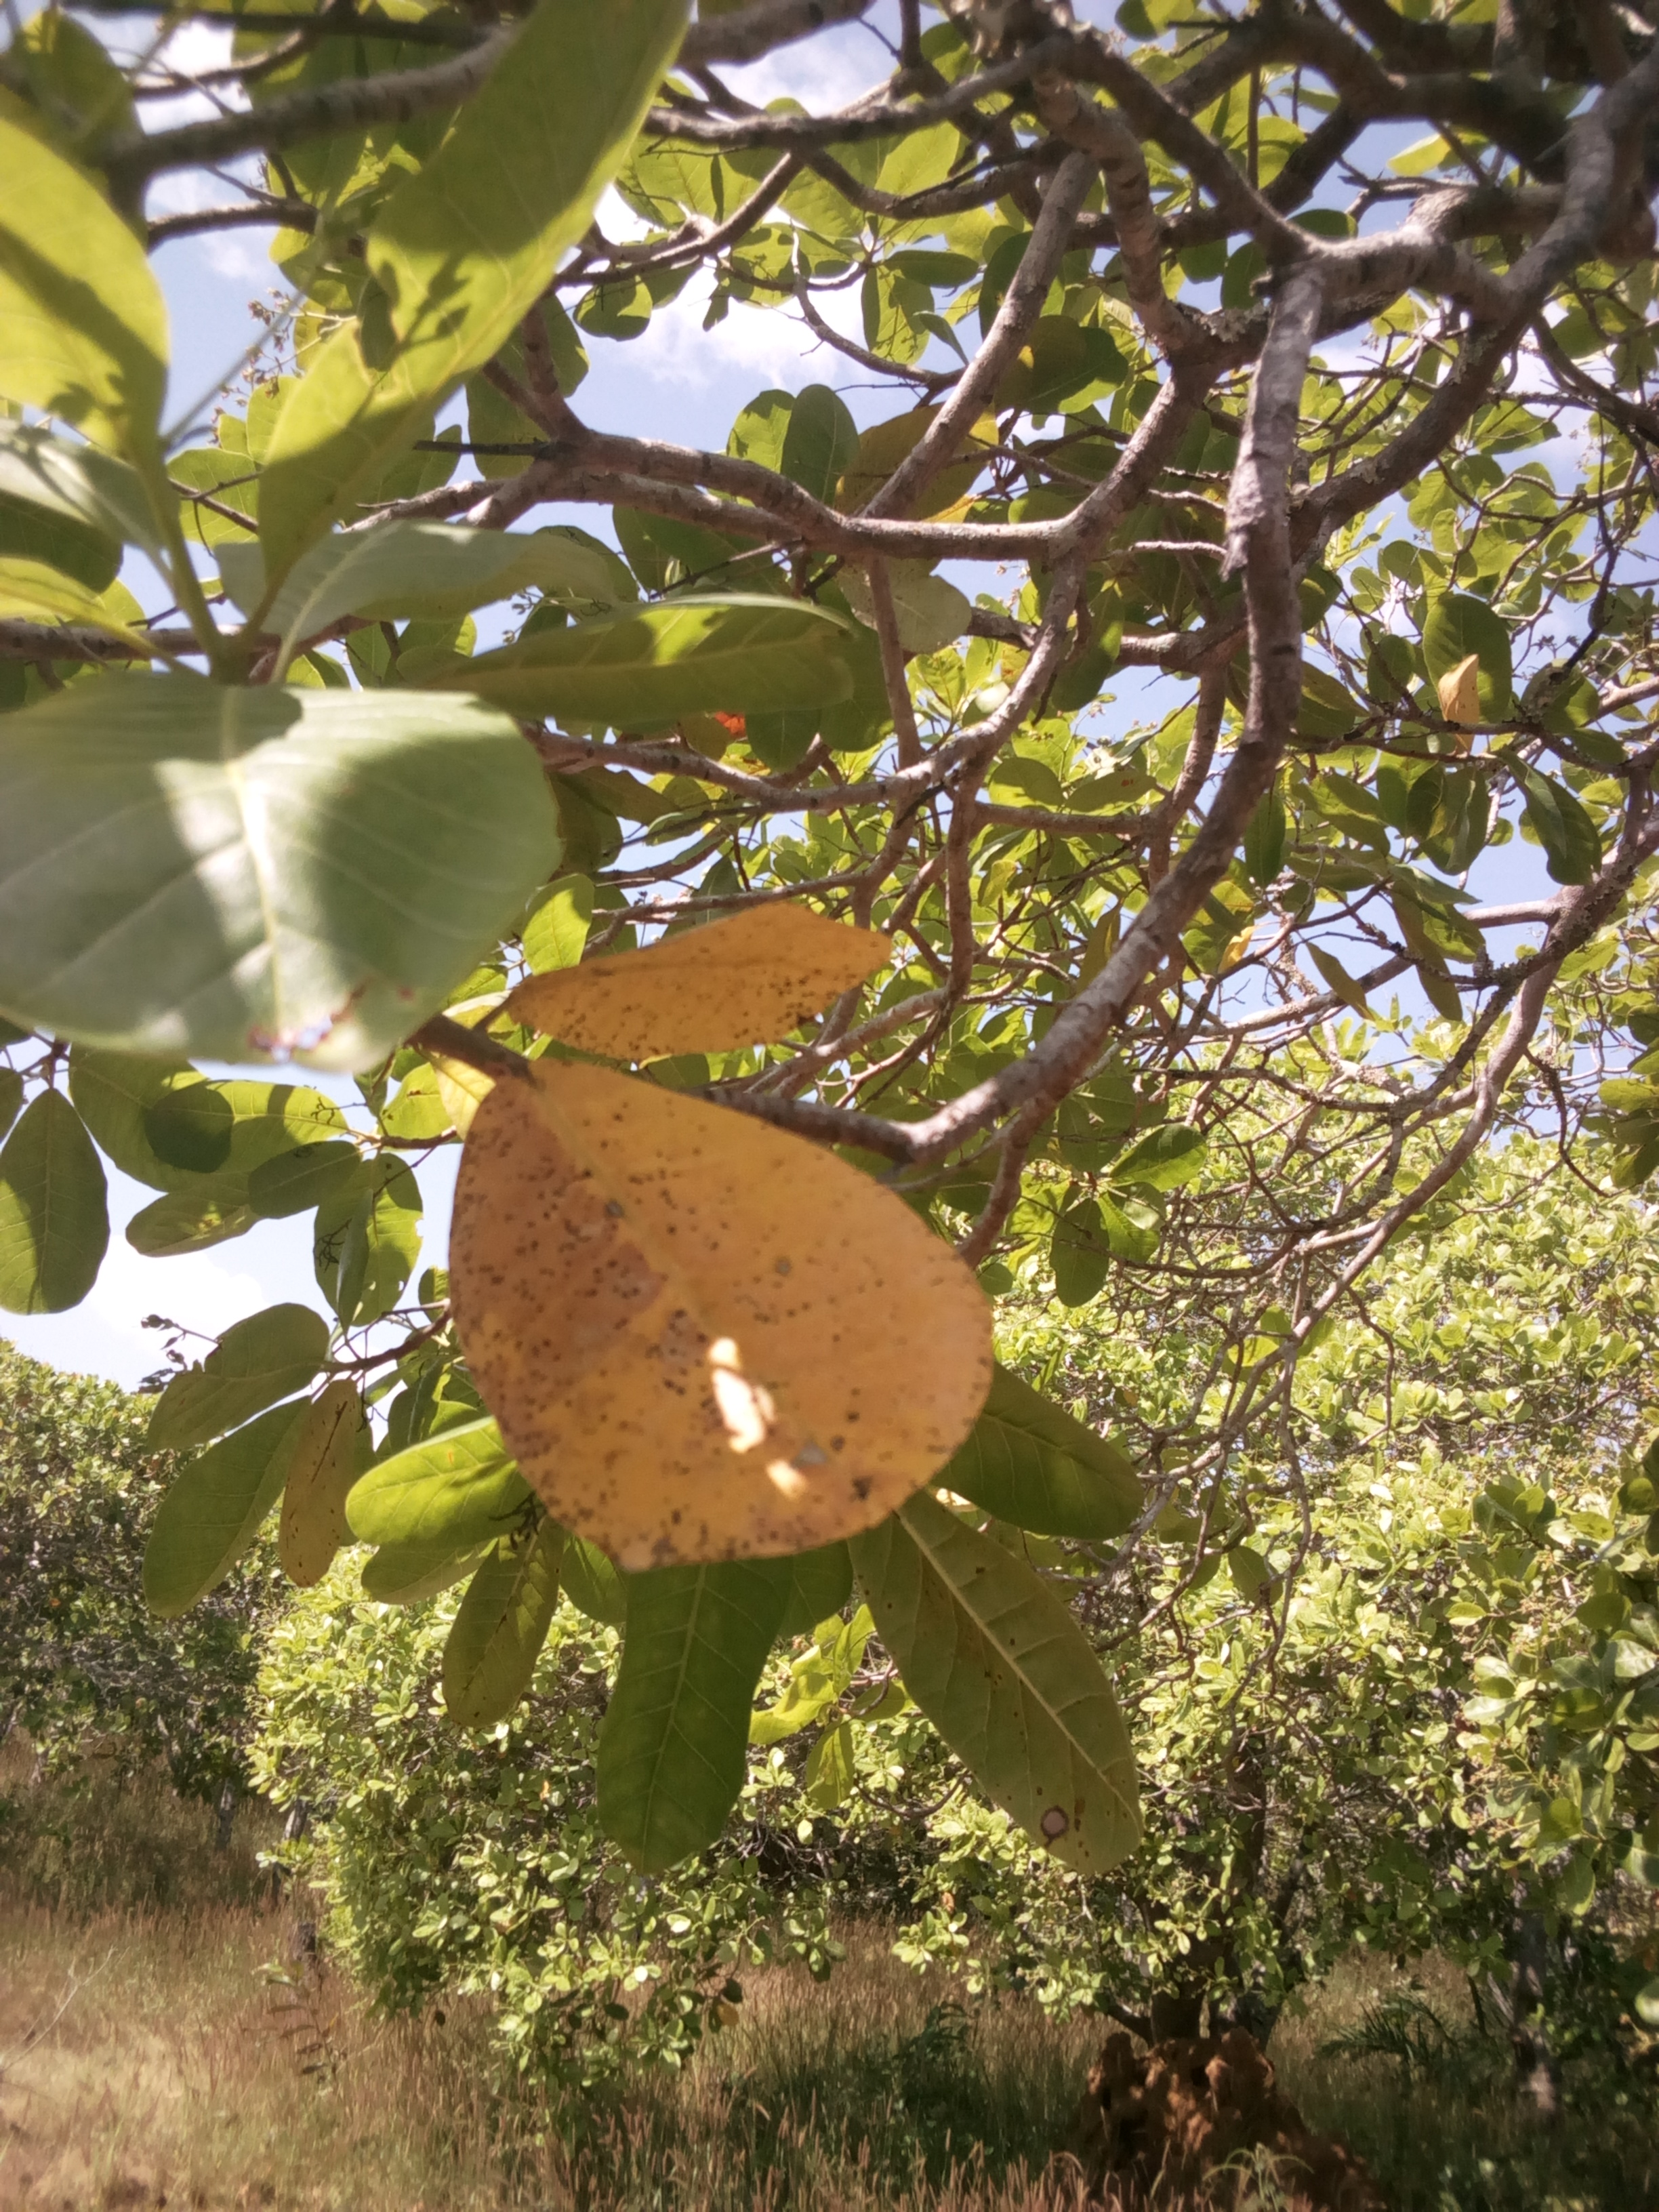Anthracnose: (443, 1085, 995, 1557), (521, 899, 901, 1059)
